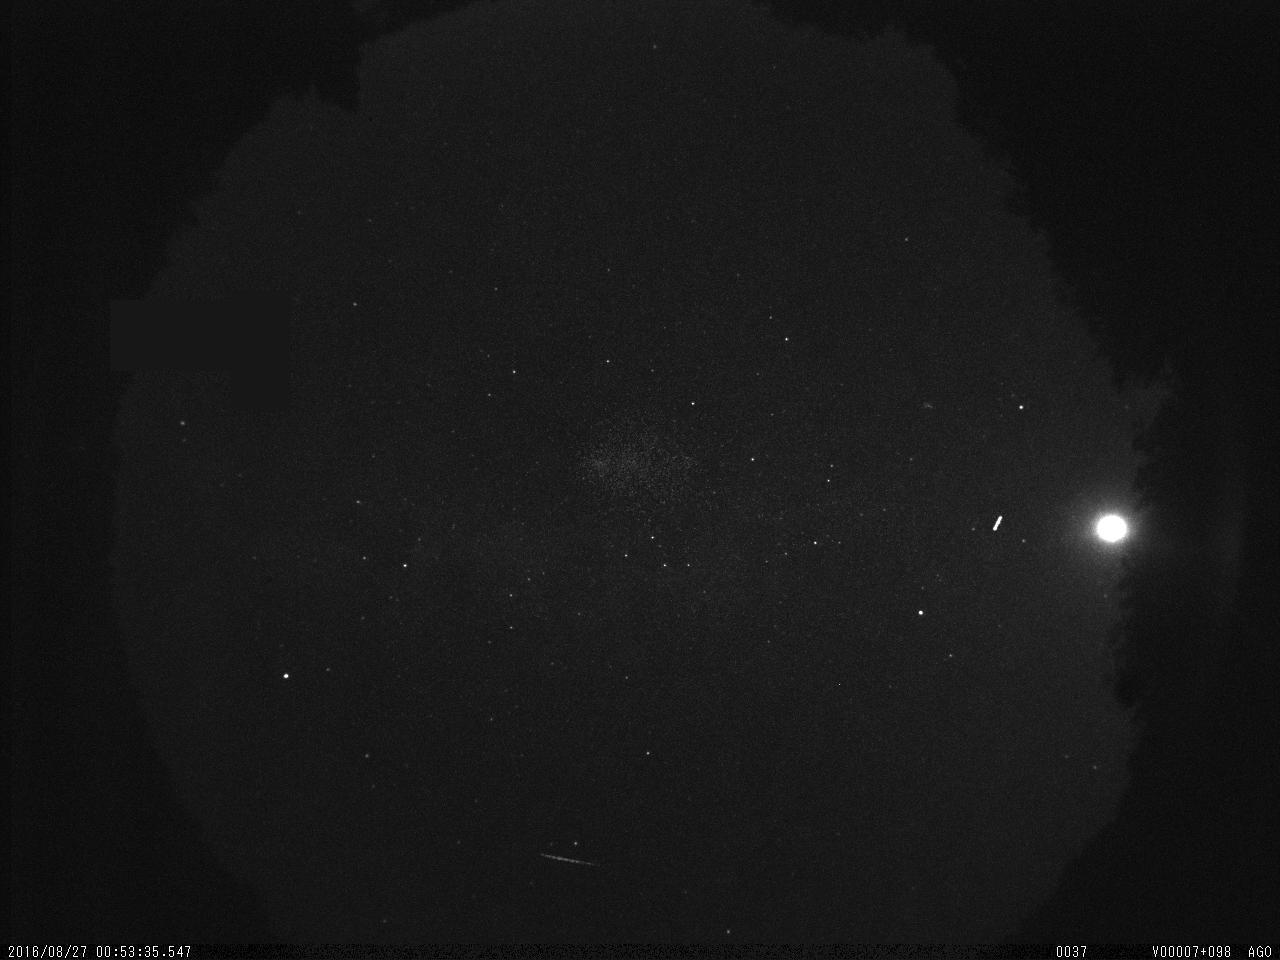meteor: (520, 836, 615, 894)
